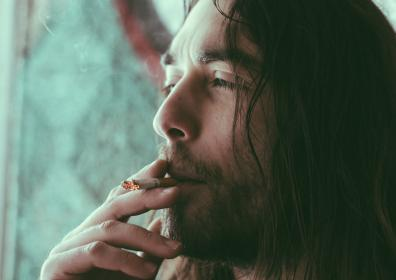cigarette: (119, 174, 183, 193)
